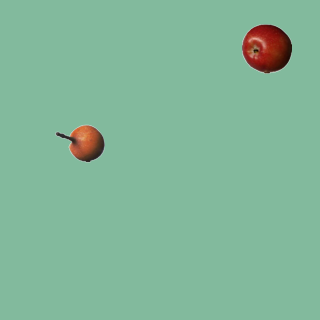Apple Braeburn: (241, 23, 291, 73)
Granadilla: (54, 118, 104, 168)
